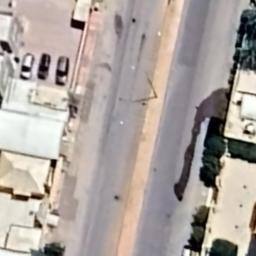SUV: (16, 50, 36, 80), (54, 54, 70, 86), (34, 52, 50, 80)
